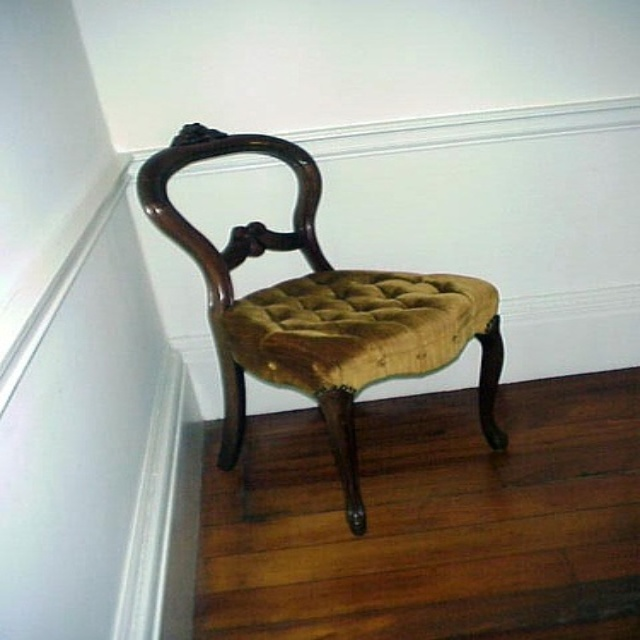obstacle: (137, 123, 507, 535)
